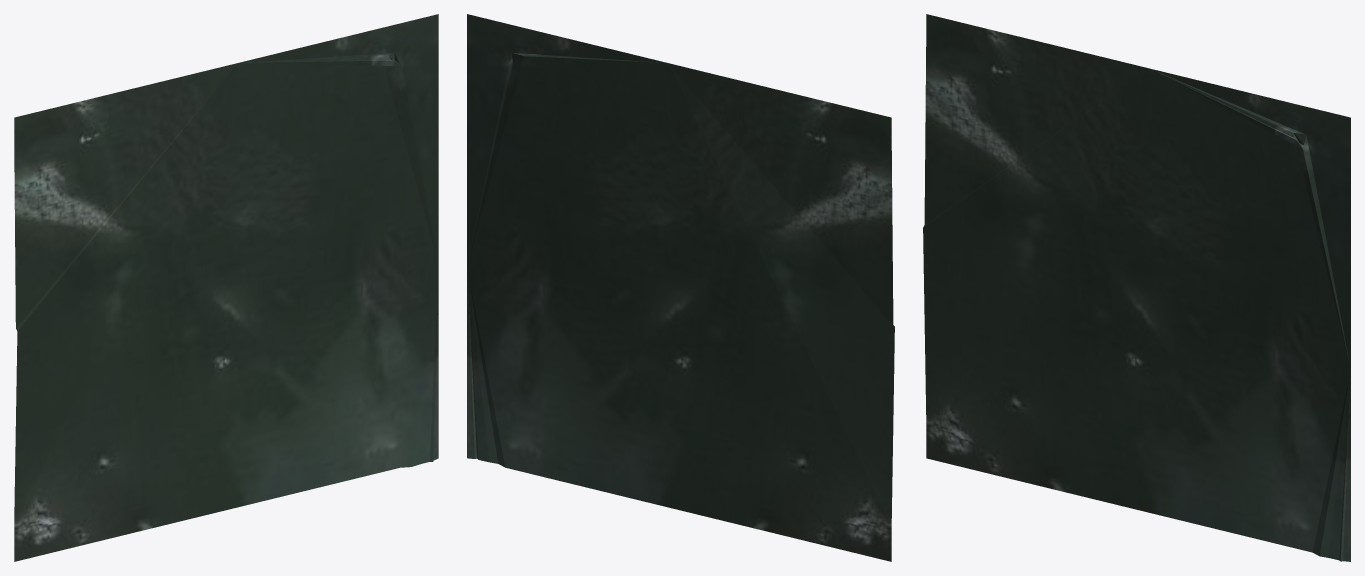
Rendered from Tile_+038_+017_L17_0003.glb.
The picture shows the model from 3 angles, left to right: view 1: azimuth 30°, elevation 25°; view 2: azimuth 150°, elevation 25°; view 3: azimuth 330°, elevation 25°; orthographic projection.
Size of the model in its own units: 126 by 126 by 2.85.
1 material, 1 textured.
